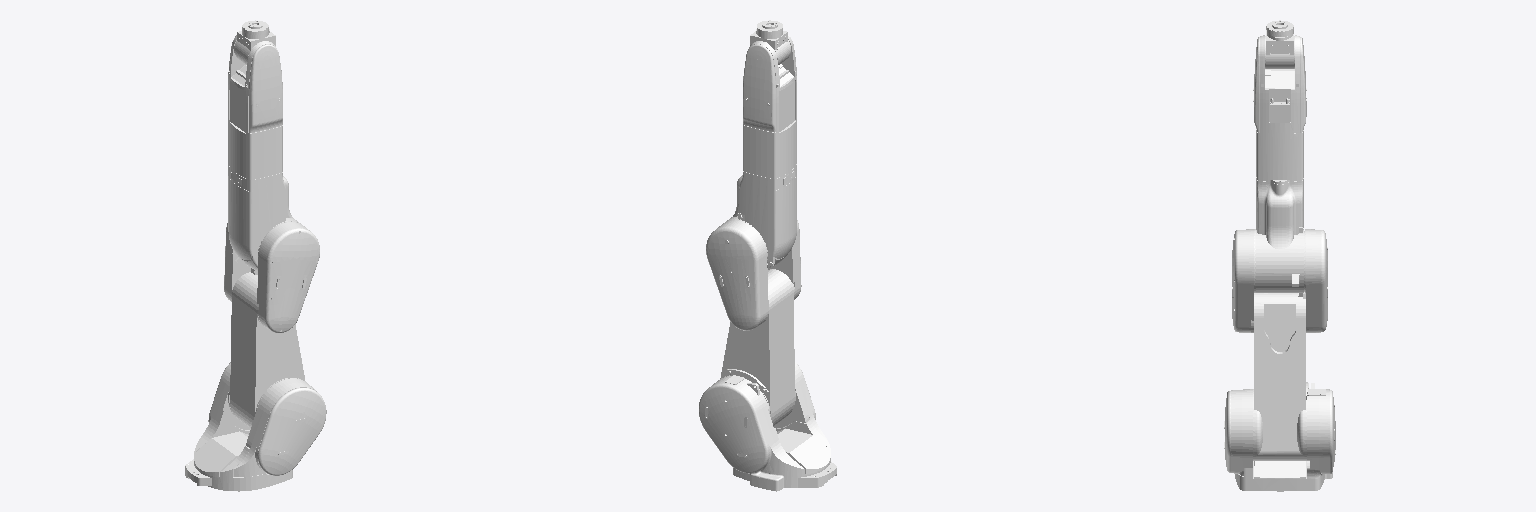
The robot description file, URDF, robot "rv13frl":
<?xml version="1.0" ?>
<robot name="rv13frl">
  <material name="white">
    <color rgba="1.0 1.0 1.0 1.0"/>
  </material>
  <link name="world"/>
  <link name="rv13frl_base">
    <visual>
      <material name="white"/>
      <origin rpy="0 0 0" xyz="0 0 0"/>
      <geometry>
        <mesh filename="package://melfa_description/meshes/rv13frl/base.STL"/>
      </geometry>
    </visual>
    <collision>
      <origin rpy="0 0 0" xyz="0 0 0"/>
      <geometry>
        <mesh filename="package://melfa_description/meshes/rv13frl/base.STL"/>
      </geometry>
    </collision>
  </link>
  <link name="rv13frl_shoulder">
    <visual>
      <material name="white"/>
      <origin rpy="0 0 0" xyz="0 0 0"/>
      <geometry>
        <mesh filename="package://melfa_description/meshes/rv13frl/shoulder.STL"/>
      </geometry>
    </visual>
    <collision>
      <origin rpy="0 0 0" xyz="0 0 0"/>
      <geometry>
        <mesh filename="package://melfa_description/meshes/rv13frl/shoulder.STL"/>
      </geometry>
    </collision>
  </link>
  <link name="rv13frl_upper_arm">
    <visual>
      <material name="white"/>
      <origin rpy="0 0 0" xyz="0 0 0"/>
      <geometry>
        <mesh filename="package://melfa_description/meshes/rv13frl/upper_arm.STL"/>
      </geometry>
    </visual>
    <collision>
      <origin rpy="0 0 0" xyz="0 0 0"/>
      <geometry>
        <mesh filename="package://melfa_description/meshes/rv13frl/upper_arm.STL"/>
      </geometry>
    </collision>
  </link>
  <link name="rv13frl_elbow">
    <visual>
      <material name="white"/>
      <origin rpy="0 0 0" xyz="0 0 0"/>
      <geometry>
        <mesh filename="package://melfa_description/meshes/rv13frl/elbow.STL"/>
      </geometry>
    </visual>
    <collision>
      <origin rpy="0 0 0" xyz="0 0 0"/>
      <geometry>
        <mesh filename="package://melfa_description/meshes/rv13frl/elbow.STL"/>
      </geometry>
    </collision>
  </link>
  <link name="rv13frl_forearm">
    <visual>
      <material name="white"/>
      <origin rpy="0 0 0" xyz="0 0 0"/>
      <geometry>
        <mesh filename="package://melfa_description/meshes/rv13frl/forearm.STL"/>
      </geometry>
    </visual>
    <collision>
      <origin rpy="0 0 0" xyz="0 0 0"/>
      <geometry>
        <mesh filename="package://melfa_description/meshes/rv13frl/forearm.STL"/>
      </geometry>
    </collision>
  </link>
  <link name="rv13frl_wrist">
    <visual>
      <material name="white"/>
      <origin rpy="0 0 0" xyz="0 0 0"/>
      <geometry>
        <mesh filename="package://melfa_description/meshes/rv13frl/wrist.STL"/>
      </geometry>
    </visual>
    <collision>
      <origin rpy="0 0 0" xyz="0 0 0"/>
      <geometry>
        <mesh filename="package://melfa_description/meshes/rv13frl/wrist.STL"/>
      </geometry>
    </collision>
  </link>
  <link name="rv13frl_hand_flange">
    <visual>
      <material name="white"/>
      <origin rpy="0 0 0" xyz="0 0 0"/>
      <geometry>
        <mesh filename="package://melfa_description/meshes/rv13frl/hand_flange.STL"/>
      </geometry>
    </visual>
    <collision>
      <origin rpy="0 0 0" xyz="0 0 0"/>
      <geometry>
        <mesh filename="package://melfa_description/meshes/rv13frl/hand_flange.STL"/>
      </geometry>
    </collision>
  </link>
  <link name="rv13frl_default_tcp"/>
  <joint name="rv13frl_world_to_base" type="fixed">
    <origin rpy="0 0 0" xyz="0.0 0.0 0.0"/>
    <parent link="world"/>
    <child link="rv13frl_base"/>
  </joint>
  <joint name="rv13frl_joint_1" type="revolute">
    <origin rpy="0 0 0" xyz="0.0 0.0 0.0"/>
    <parent link="rv13frl_base"/>
    <child link="rv13frl_shoulder"/>
    <axis xyz="0 0 1"/>
    <limit effort="1" lower="-3.3161255787892263" upper="3.3161255787892263" velocity="4.084070449666731"/>
  </joint>
  <joint name="rv13frl_joint_2" type="revolute">
    <origin rpy="0 0 0" xyz="0.13 0.0 0.45"/>
    <parent link="rv13frl_shoulder"/>
    <child link="rv13frl_upper_arm"/>
    <axis xyz="0 1 0"/>
    <limit effort="1" lower="-1.5707963267948966" upper="2.6179938779914944" velocity="2.8623399732707"/>
  </joint>
  <joint name="rv13frl_joint_3" type="revolute">
    <origin rpy="0 0 0" xyz="0.0 0.0 0.565"/>
    <parent link="rv13frl_upper_arm"/>
    <child link="rv13frl_elbow"/>
    <axis xyz="0 1 0"/>
    <limit effort="1" lower="-0.17453292519943295" upper="2.748893571891069" velocity="3.822271061867582"/>
  </joint>
  <joint name="rv13frl_joint_4" type="revolute">
    <origin rpy="0 0 0" xyz="-0.065 0.0 0.0"/>
    <parent link="rv13frl_elbow"/>
    <child link="rv13frl_forearm"/>
    <axis xyz="0 0 1"/>
    <limit effort="1" lower="-3.490658503988659" upper="3.490658503988659" velocity="6.544984694978735"/>
  </joint>
  <joint name="rv13frl_joint_5" type="revolute">
    <origin rpy="0 0 0" xyz="0.0 0.0 0.69"/>
    <parent link="rv13frl_forearm"/>
    <child link="rv13frl_wrist"/>
    <axis xyz="0 1 0"/>
    <limit effort="1" lower="-2.0943951023931953" upper="2.0943951023931953" velocity="6.544984694978735"/>
  </joint>
  <joint name="rv13frl_joint_6" type="revolute">
    <origin rpy="0 0 0" xyz="0.0 0.0 0.097"/>
    <parent link="rv13frl_wrist"/>
    <child link="rv13frl_hand_flange"/>
    <axis xyz="0 0 1"/>
    <limit effort="1" lower="-6.283185307179586" upper="6.283185307179586" velocity="12.566370614359172"/>
  </joint>
  <joint name="rv13frl_hand_tcp" type="fixed">
    <origin rpy="0 0 0" xyz="0.0 0.0 0.0"/>
    <parent link="rv13frl_hand_flange"/>
    <child link="rv13frl_default_tcp"/>
  </joint>
</robot>

--- What the picture shows (computed from the rendered views, not written in the file) ---
The picture shows the robot from 3 angles, left to right: view 1: azimuth 30°, elevation 25°; view 2: azimuth 150°, elevation 25°; view 3: azimuth 270°, elevation 25°; orthographic projection.
Model rv13frl with 9 links and 8 joints (6 revolute, 2 fixed), rooted at world, posed all joints at 0.
Visible links, largest first — view 1: rv13frl_upper_arm, rv13frl_shoulder, rv13frl_forearm, rv13frl_elbow, rv13frl_wrist; view 2: rv13frl_upper_arm, rv13frl_shoulder, rv13frl_forearm, rv13frl_elbow, rv13frl_wrist; view 3: rv13frl_upper_arm, rv13frl_shoulder, rv13frl_forearm, rv13frl_elbow, rv13frl_wrist.
Link boxes in pixels (x1,y1,x2,y2): rv13frl_upper_arm: (224,222,319,427); rv13frl_shoulder: (185,362,326,491); rv13frl_forearm: (228,35,282,179); rv13frl_elbow: (228,165,300,270); rv13frl_wrist: (234,20,275,64); rv13frl_upper_arm: (706,220,801,425); rv13frl_shoulder: (699,362,836,491); rv13frl_forearm: (743,35,796,178); rv13frl_elbow: (726,164,796,268); rv13frl_wrist: (750,20,790,64); rv13frl_upper_arm: (1232,229,1327,460); rv13frl_shoulder: (1224,383,1335,491); rv13frl_forearm: (1253,35,1306,184); rv13frl_elbow: (1256,177,1304,292); rv13frl_wrist: (1266,20,1293,68).
Size in the robot's own frame: 0.4243 by 0.3485 by 1.58 metres.
6 mesh visuals loaded from 7 distinct referenced files (6 binary STL); not drawn: 1 (reference not matched to a file when rendering).
